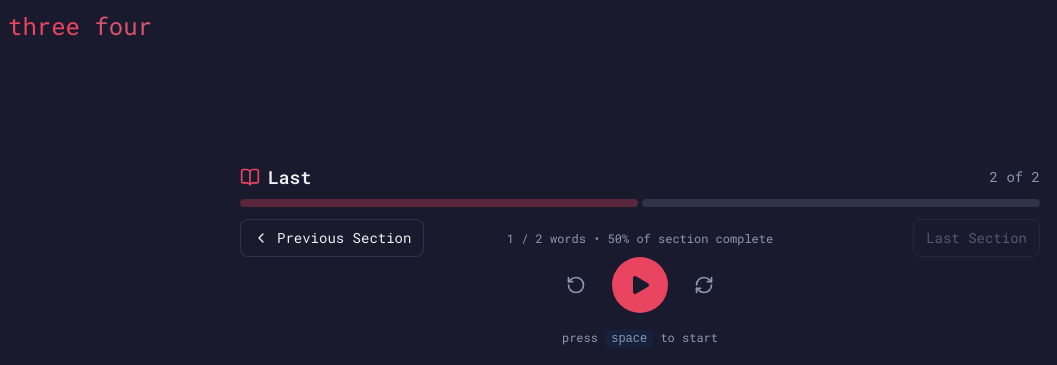
Test: completes at the final section word without timing hidden separators
Click the button named "Play": (640, 285) [612,257,668,313]
Wait 200 ms
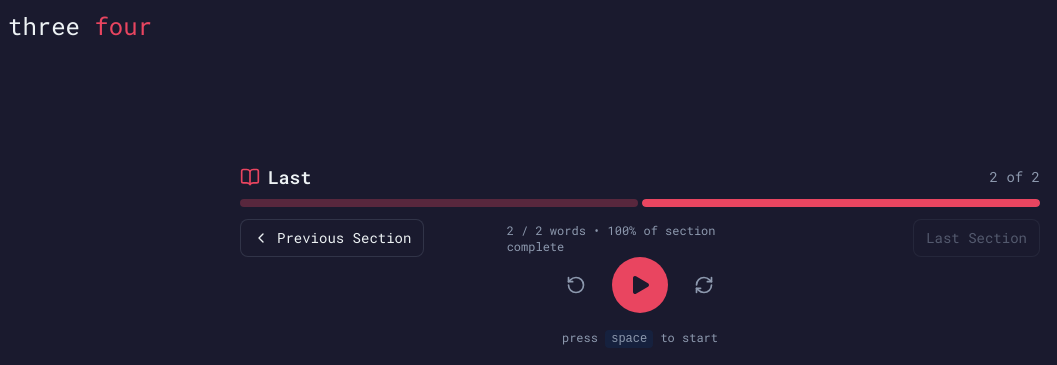
Result: the text "2 / 2 words • 100% of section complete" is shown at [507,222,716,254]
